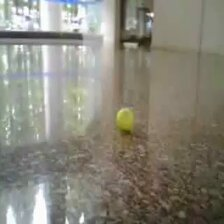tennis: (116, 108, 133, 129)
